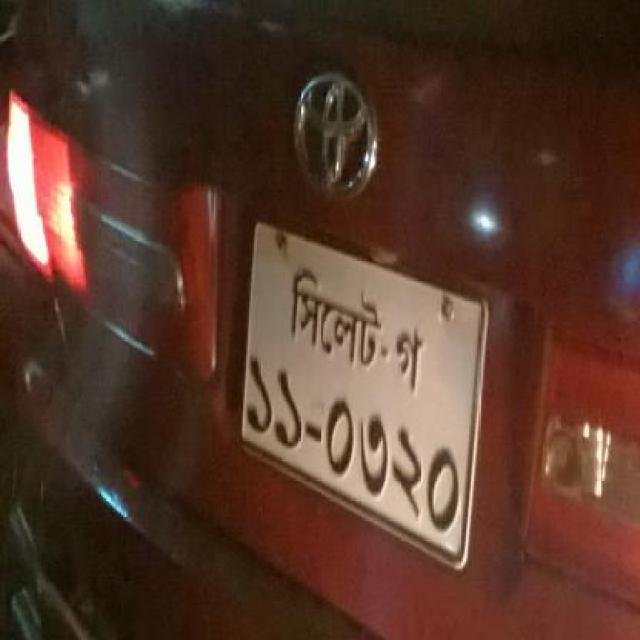numberplate: (236, 218, 490, 572)
